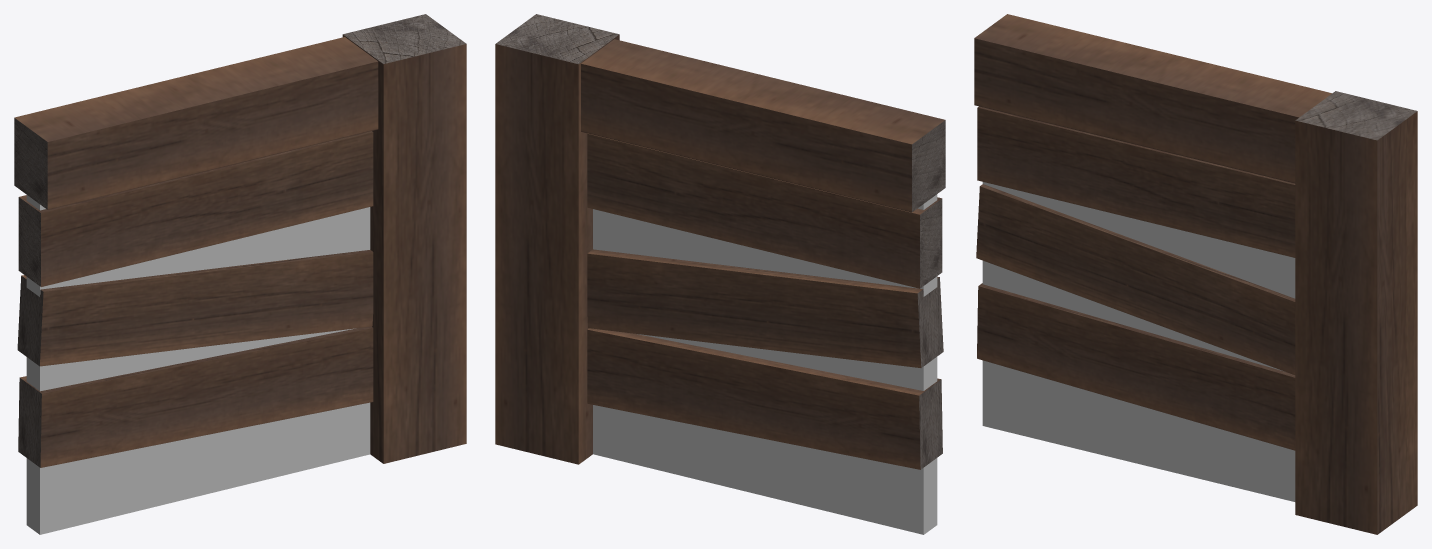
Rendered from jov_lowwall_0t03.fbx.
The picture shows the model from 3 angles, left to right: view 1: azimuth 30°, elevation 25°; view 2: azimuth 150°, elevation 25°; view 3: azimuth 330°, elevation 25°; orthographic projection.
Visible parts, largest first — view 1: jov_lowwall_0t03; view 2: jov_lowwall_0t03; view 3: jov_lowwall_0t03.
Part boxes in pixels (bbox=[...]): jov_lowwall_0t03: bbox=[14, 14, 466, 534]; jov_lowwall_0t03: bbox=[495, 14, 945, 534]; jov_lowwall_0t03: bbox=[974, 14, 1417, 534].
Size of the model in its own units: 109 by 100 by 18.59.
